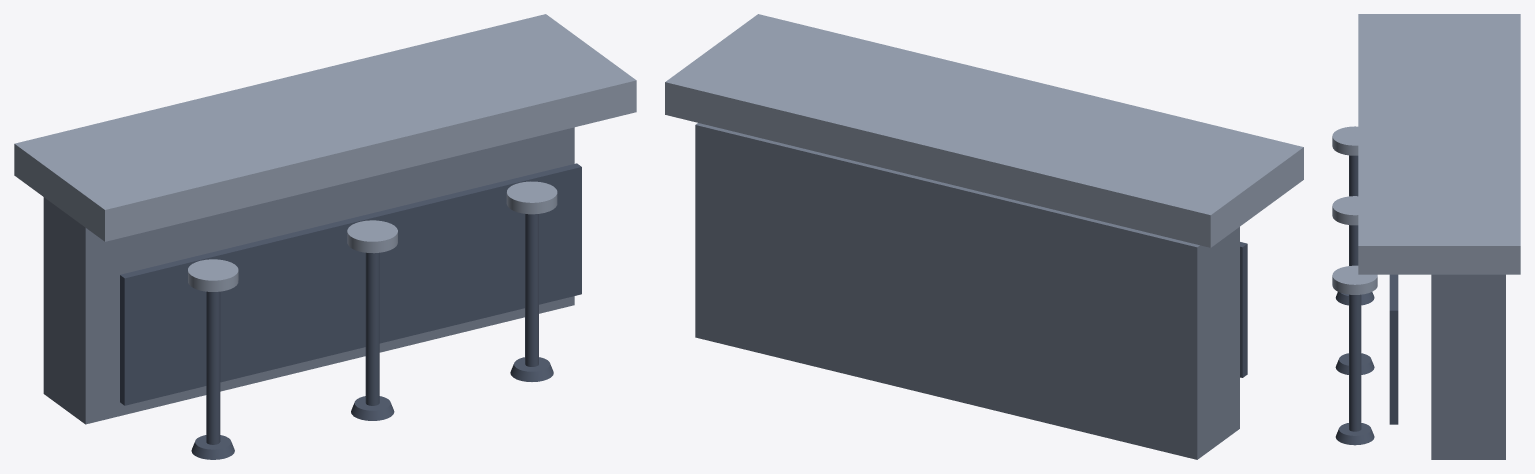
3 renders of one model, left to right at view 1: azimuth 30°, elevation 25°; view 2: azimuth 150°, elevation 25°; view 3: azimuth 270°, elevation 25°, orthographic. The views are drawn at different scales.
Parts seen in each view (by area): view 1: bar; view 2: bar; view 3: bar.
Part boxes in pixels (x1,y1,x2,y2): bar: (14,14,636,459); bar: (665,14,1303,459); bar: (1332,14,1520,459).
Bounding box in the file's own units: 2.2 × 1.05 × 0.754.
